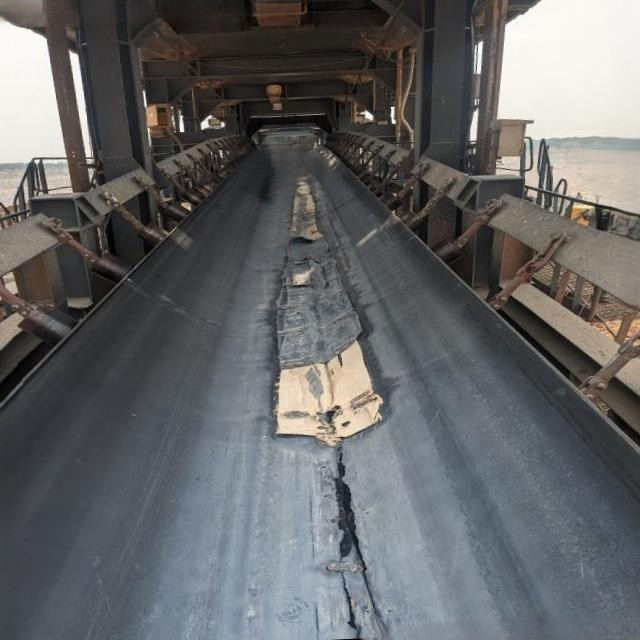Tear: (334, 432, 389, 640), (332, 569, 368, 638)
